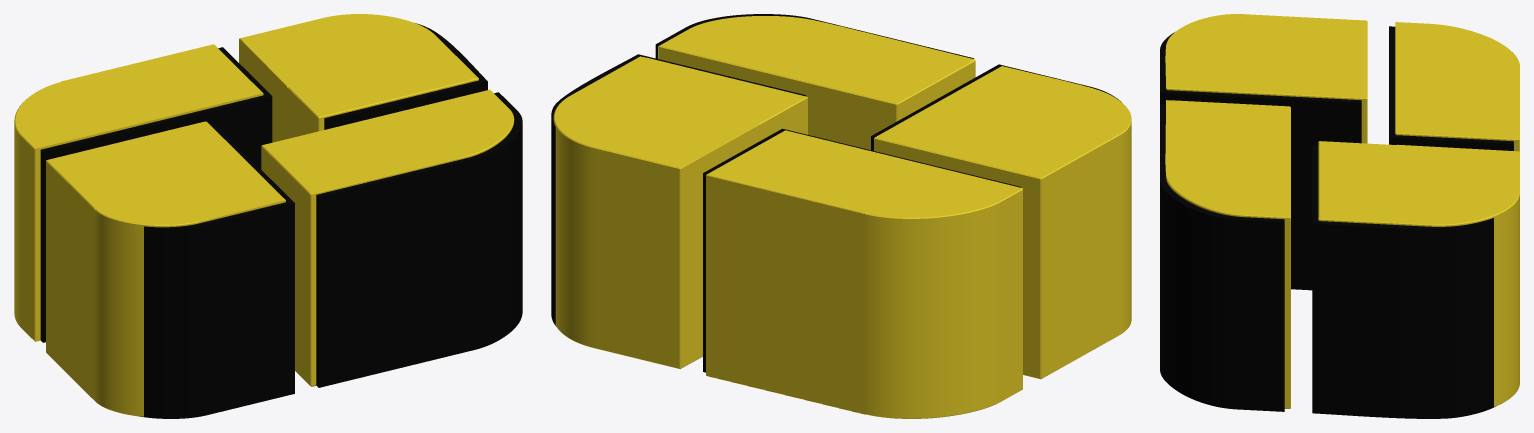
The model's file is Icone ORB Petrotec.fbx.
The picture shows the model from 3 angles, left to right: view 1: azimuth 30°, elevation 25°; view 2: azimuth 150°, elevation 25°; view 3: azimuth 270°, elevation 25°; orthographic projection. The views are drawn at different scales.
Parts seen in each view (by area): view 1: Curve.001, Curve; view 2: Curve.001, Curve; view 3: Curve, Curve.001.
Part boxes in pixels (x1,y1,x2,y2): Curve.001: (14,14,514,416); Curve: (40,23,522,418); Curve.001: (553,16,1131,418); Curve: (551,14,1121,372); Curve: (1160,26,1513,418); Curve.001: (1165,14,1519,408).
Bounding box in the file's own units: 1587 × 666 × 1131.
